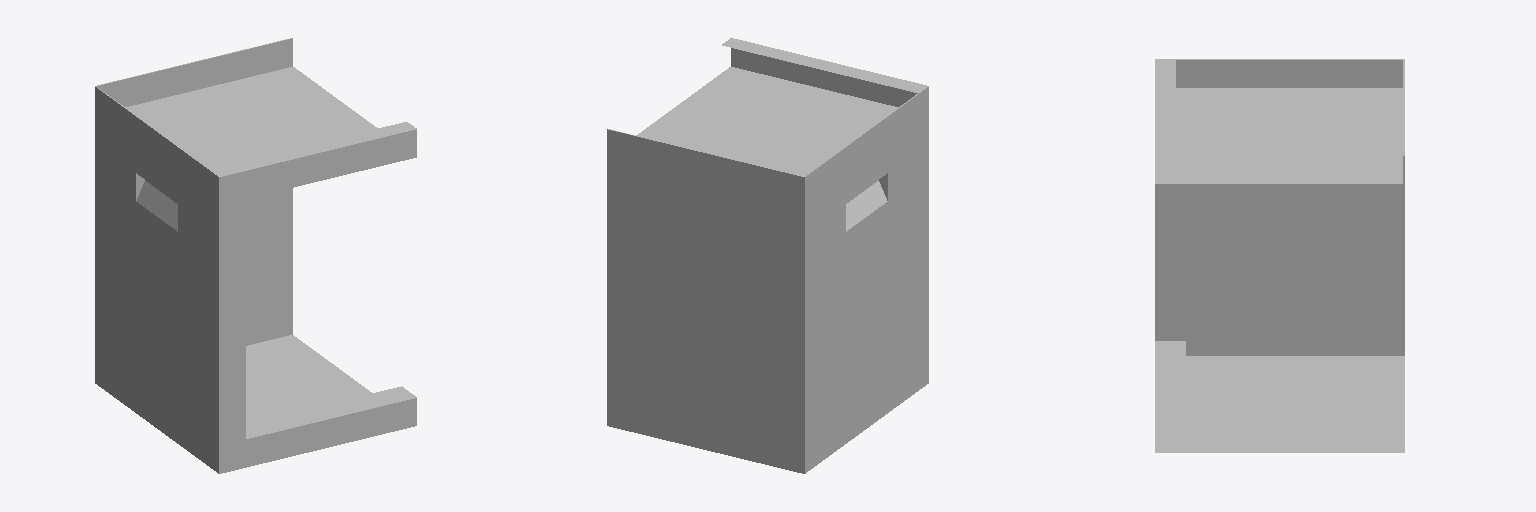
Rendered from original-5.obj.
3 views of the same model, side by side, from view 1: azimuth 30°, elevation 25°; view 2: azimuth 150°, elevation 25°; view 3: azimuth 270°, elevation 25° (orthographic).
Parts seen in each view (by area): view 1: Component_1_1/Component_1/mesh3/mesh3-geometry#mesh3-geometry; view 2: Component_1_1/Component_1/mesh3/mesh3-geometry#mesh3-geometry; view 3: Component_1_1/Component_1/mesh3/mesh3-geometry#mesh3-geometry.
Boxes of the visible parts, x1,y1,x2,y2 form: Component_1_1/Component_1/mesh3/mesh3-geometry#mesh3-geometry: [95, 38, 416, 473]; Component_1_1/Component_1/mesh3/mesh3-geometry#mesh3-geometry: [607, 38, 928, 473]; Component_1_1/Component_1/mesh3/mesh3-geometry#mesh3-geometry: [1155, 59, 1404, 452].
Bounding box in the file's own units: 0.4834 × 0.6922 × 0.5274.